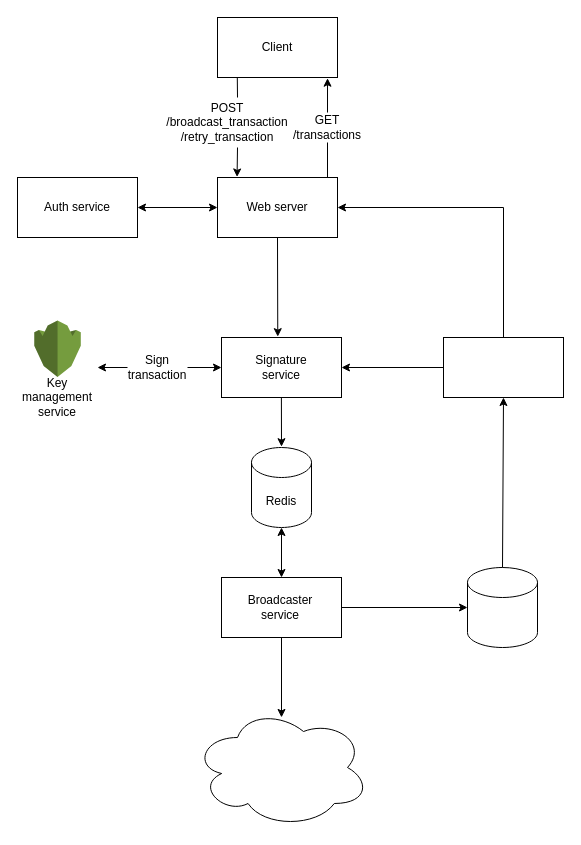
This 581x845 diagram has some shape labels left out. The shapes that lost their labels are listed below. From the top down, each one's centre as x and y in pixels, then its label:
At [503,367]: "Transactions service".
At [502,607]: "PostgreSQL".
At [281,767]: "RPC".
